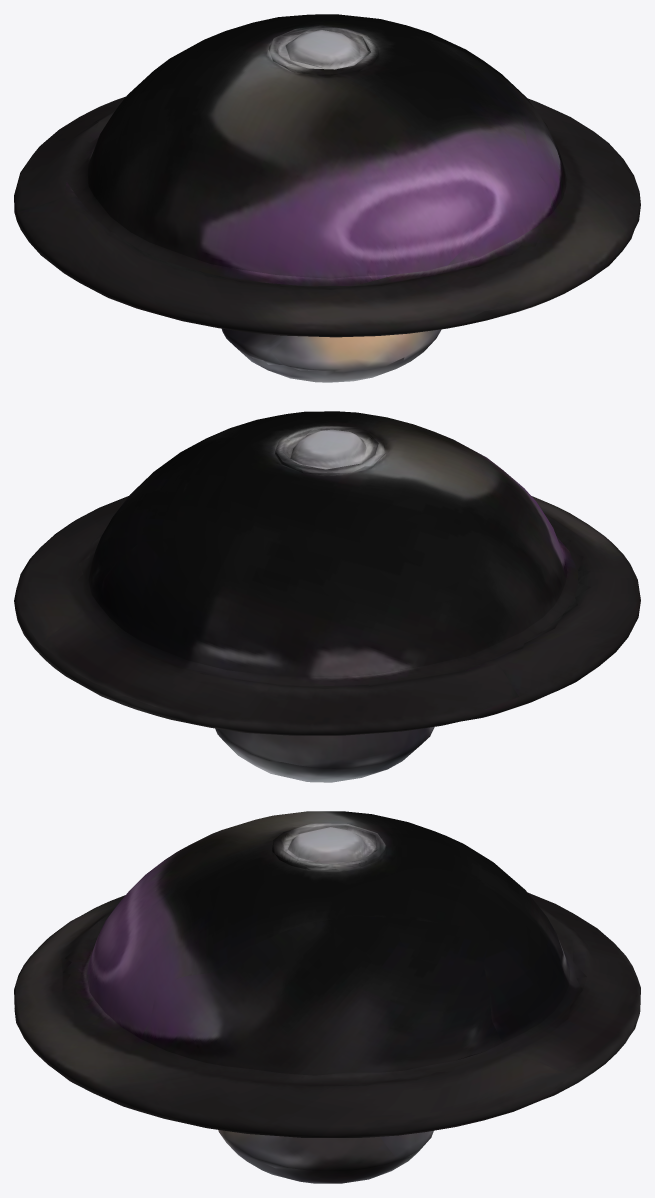
Rendered from ufo.glb.
The picture shows the model from 3 angles, top to bottom: view 1: azimuth 30°, elevation 25°; view 2: azimuth 150°, elevation 25°; view 3: azimuth 270°, elevation 25°; orthographic projection.
Parts seen in each view (by area): view 1: model; view 2: model; view 3: model.
Boxes of the visible parts, x1,y1,x2,y2 form: model: (14, 14, 640, 382); model: (14, 411, 640, 782); model: (14, 811, 640, 1183).
Size of the model in its own units: 1.89 by 1.05 by 1.9.
Materials: 1 (1 with a texture image).
